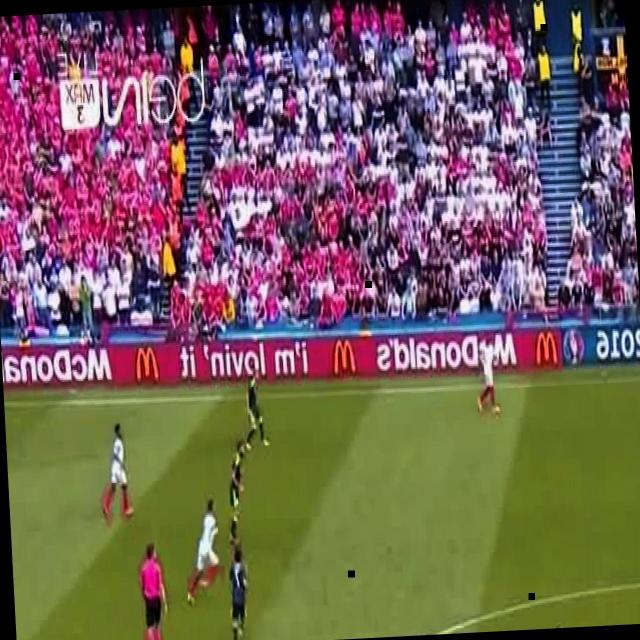player-white: (181, 498, 222, 606), (98, 423, 134, 522), (139, 541, 169, 640), (225, 441, 250, 543), (241, 368, 268, 449), (474, 333, 500, 416), (228, 544, 250, 640)
